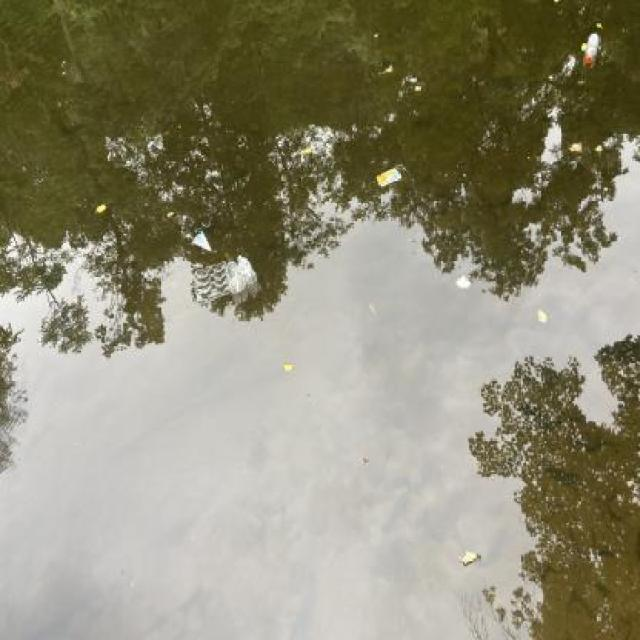Cardboard: (373, 164, 407, 193)
Plastic: (193, 256, 257, 302), (574, 28, 604, 72), (190, 228, 216, 254)
